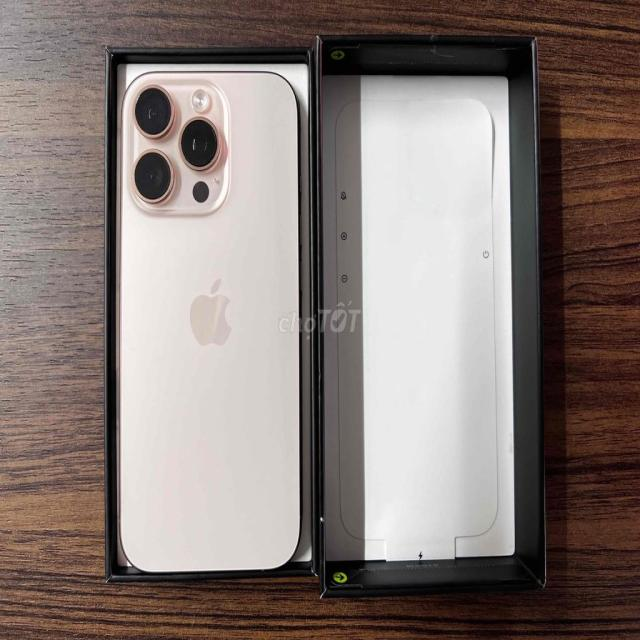gen_16: (116, 66, 301, 572)
